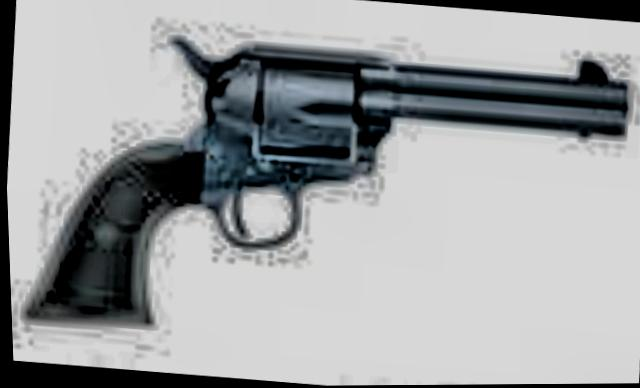pistol: (6, 5, 634, 366)
